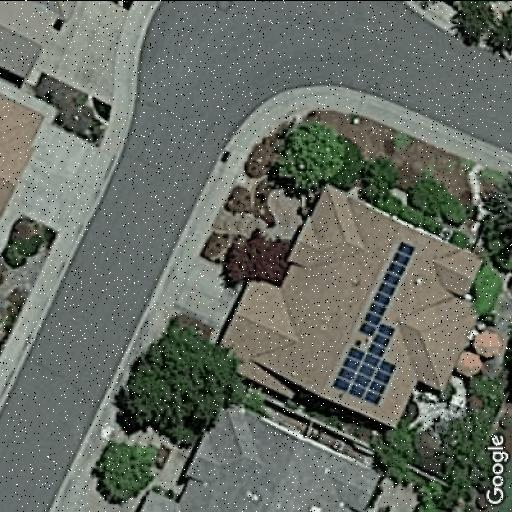solar-panel: (356, 241, 416, 339), (330, 321, 398, 407)
